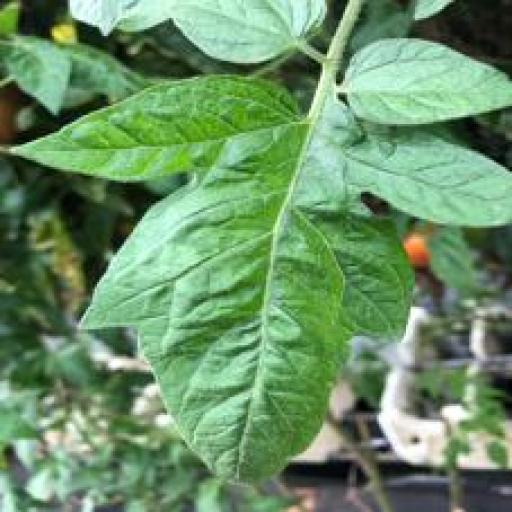Healthy: (2, 76, 510, 495), (346, 38, 512, 128)
